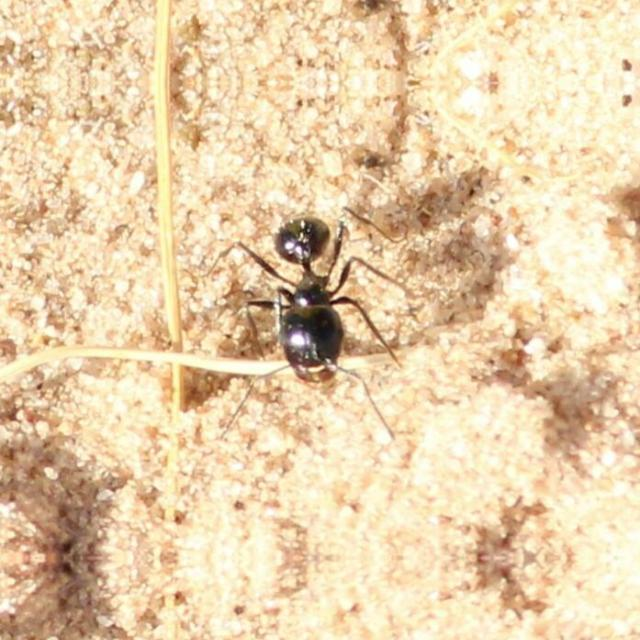Messor: (237, 200, 377, 384)
